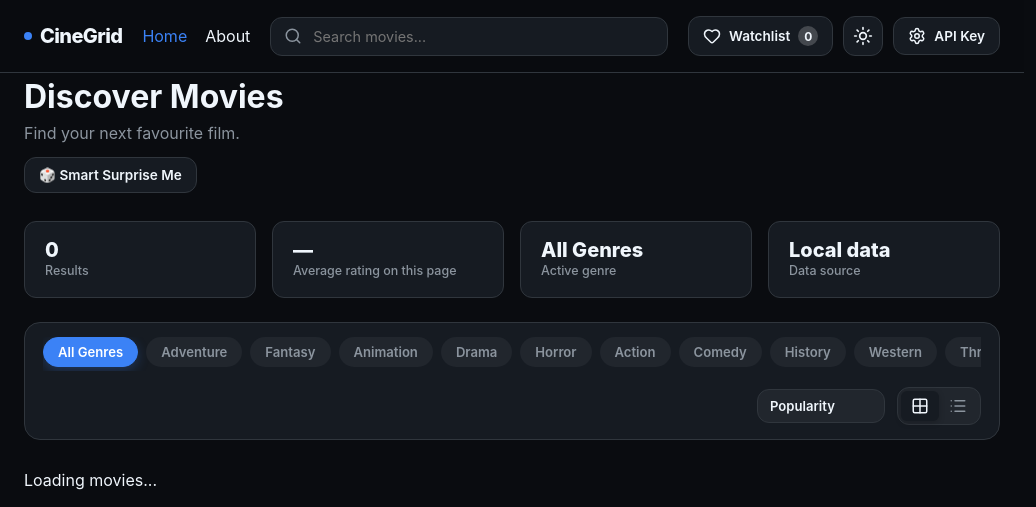
Test: loads recommendations independently and disables the button during their request
Expected: the text "Loading movies..." is shown, [24,470,157,490]
Click the button "🎲 Smart Surprise Me": (110,175) [24,157,197,193]
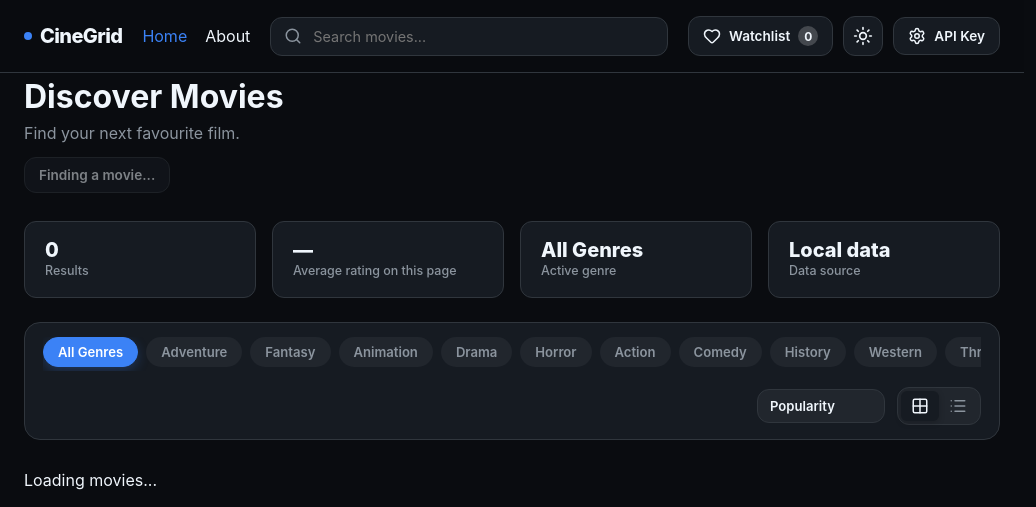
Now the button named "Surprise Me" is disabled, box [24,157,170,193]
